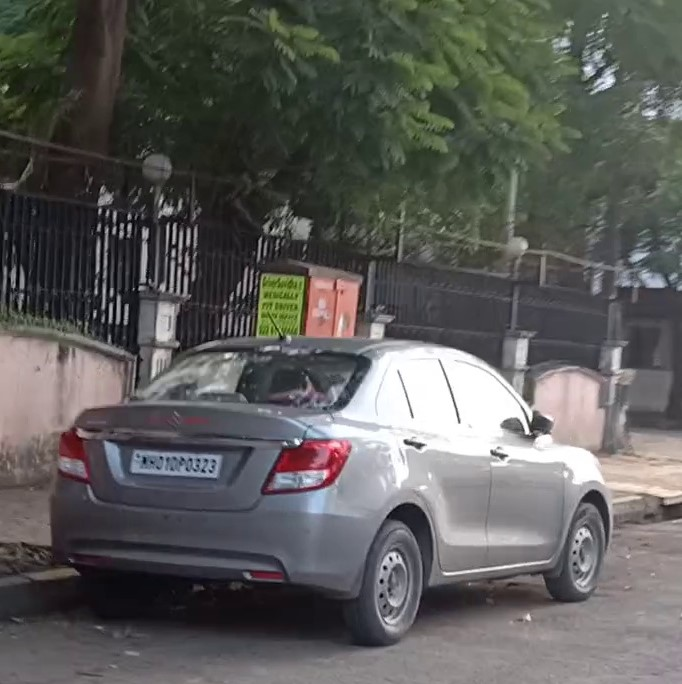MH010PO323: (130, 447, 222, 480)
